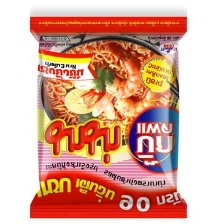snack: (20, 10, 195, 224)
